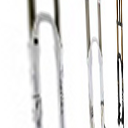fork: (108, 5, 128, 128)
